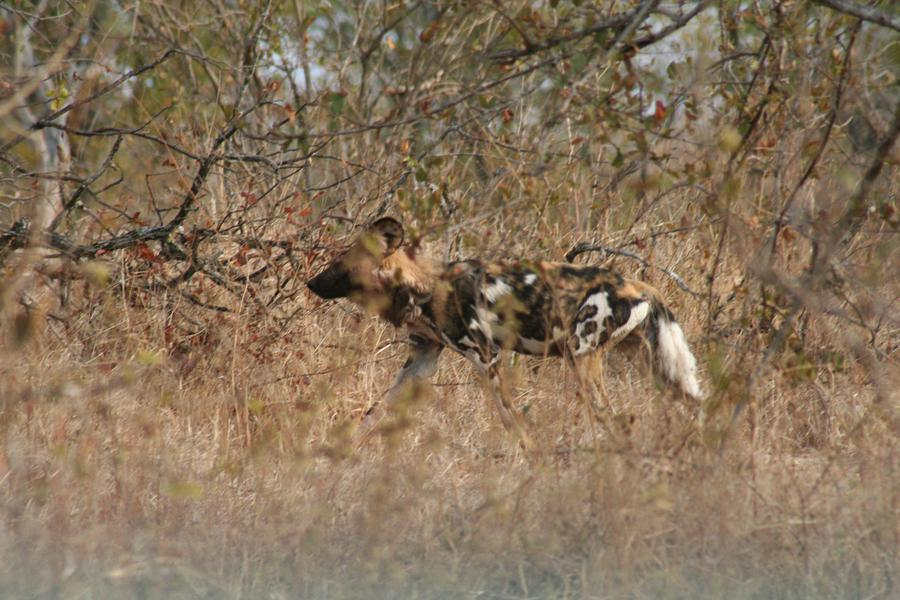wilddog: (308, 205, 643, 398)
